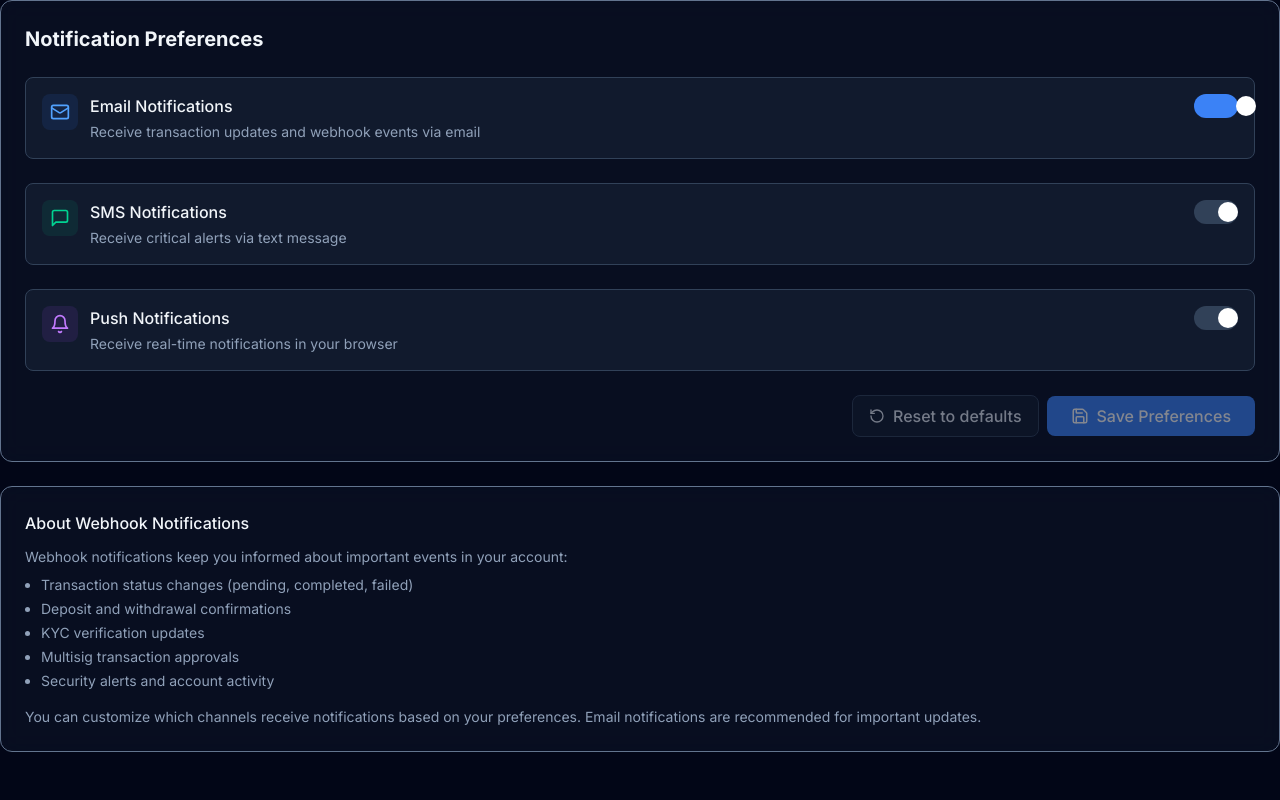
Test: NotificationPreferences toggling › reveals the phone field only while SMS is enabled
Check: the heading "Notification Preferences" is shown, box [25,27,264,51]
Check: the field labelled "Phone Number" is not shown
Click the switch named "Toggle SMS notifications" at (1216, 212), box [1194,200,1238,224]
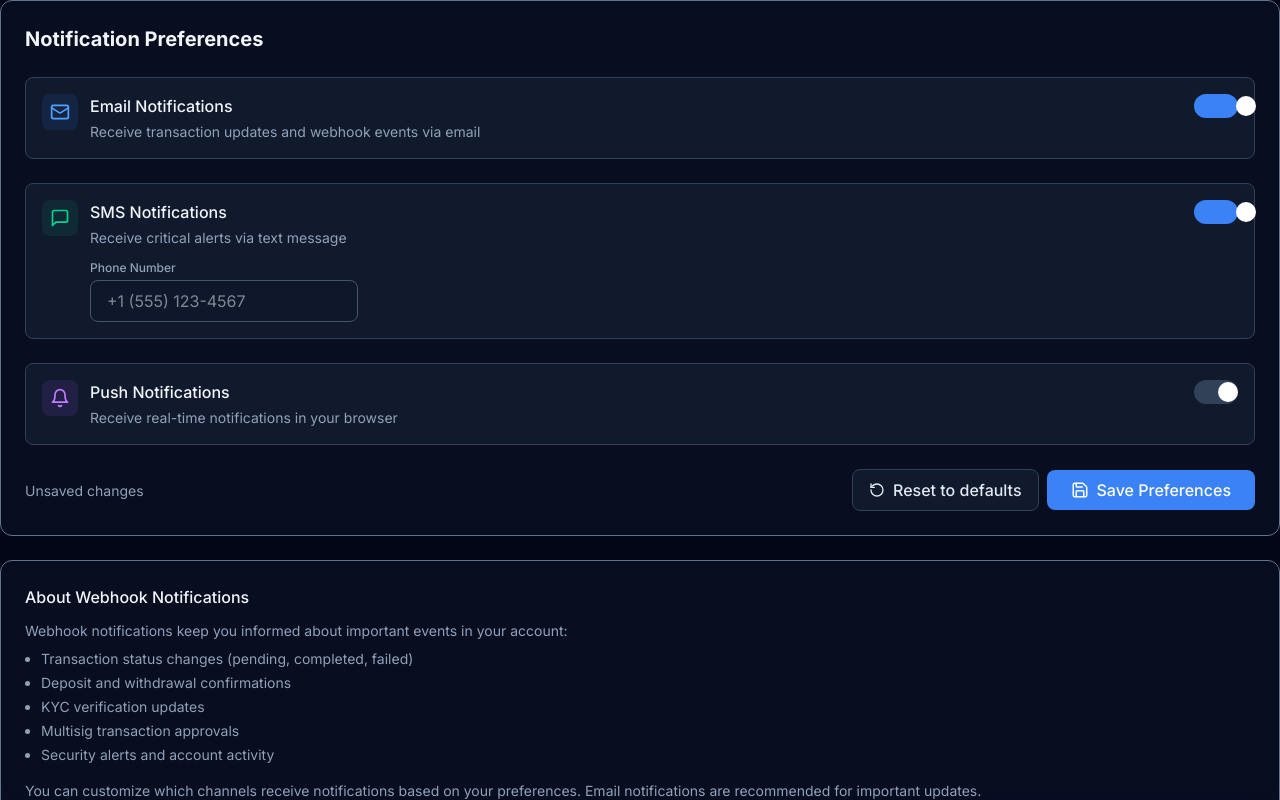
Check: the field labelled "Phone Number" is shown, box [90,280,358,322]
